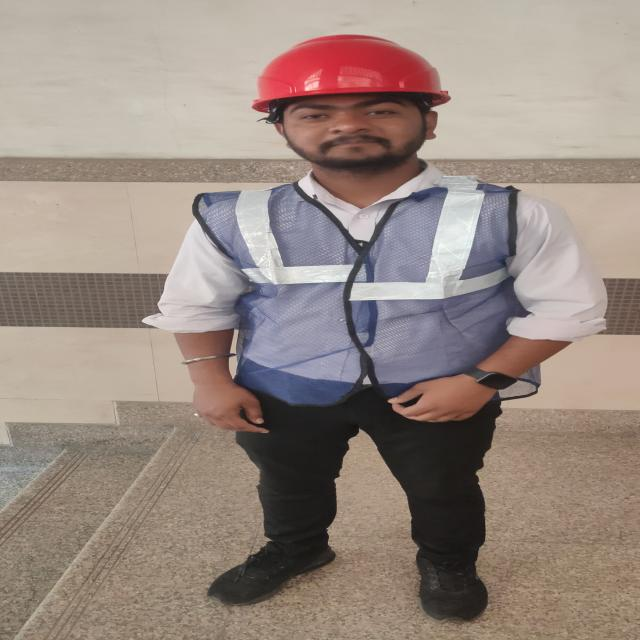safe: (161, 35, 603, 620)
